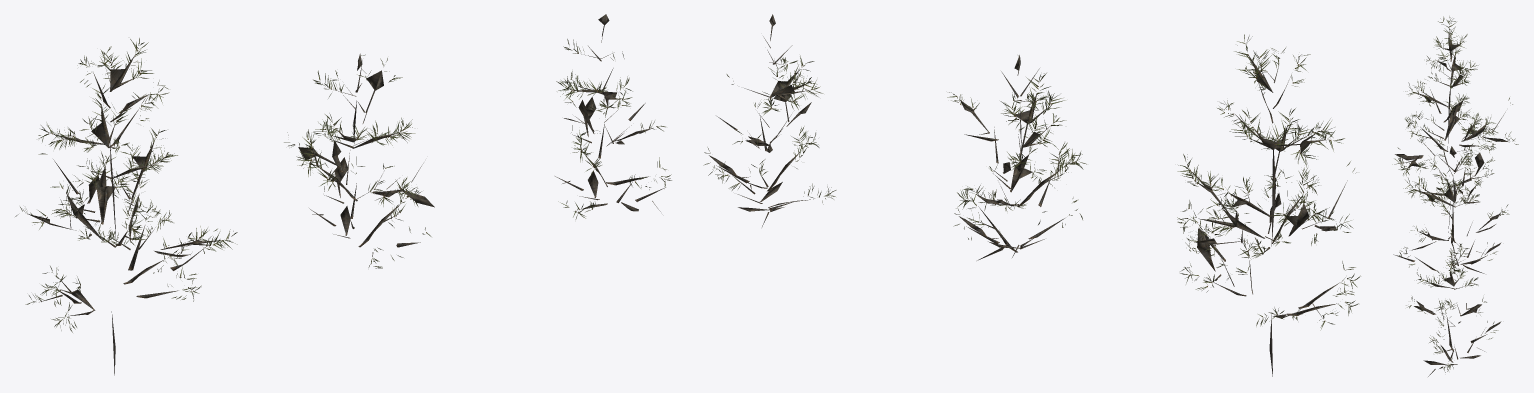
The model's file is pine-sapling.glb.
3 renders of one model, left to right at view 1: azimuth 30°, elevation 25°; view 2: azimuth 150°, elevation 25°; view 3: azimuth 270°, elevation 25°, orthographic. The views are drawn at different scales.
Visible parts, largest first — view 1: pine-sapling; view 2: pine-sapling; view 3: pine-sapling.
Boxes of the visible parts, <box> form: pine-sapling: <box>15,14,671,375</box>; pine-sapling: <box>703,14,1360,376</box>; pine-sapling: <box>1392,16,1518,376</box>.
Size of the model in its own units: 0.9871 by 0.4886 by 0.2631.
2 materials, 2 textured.
